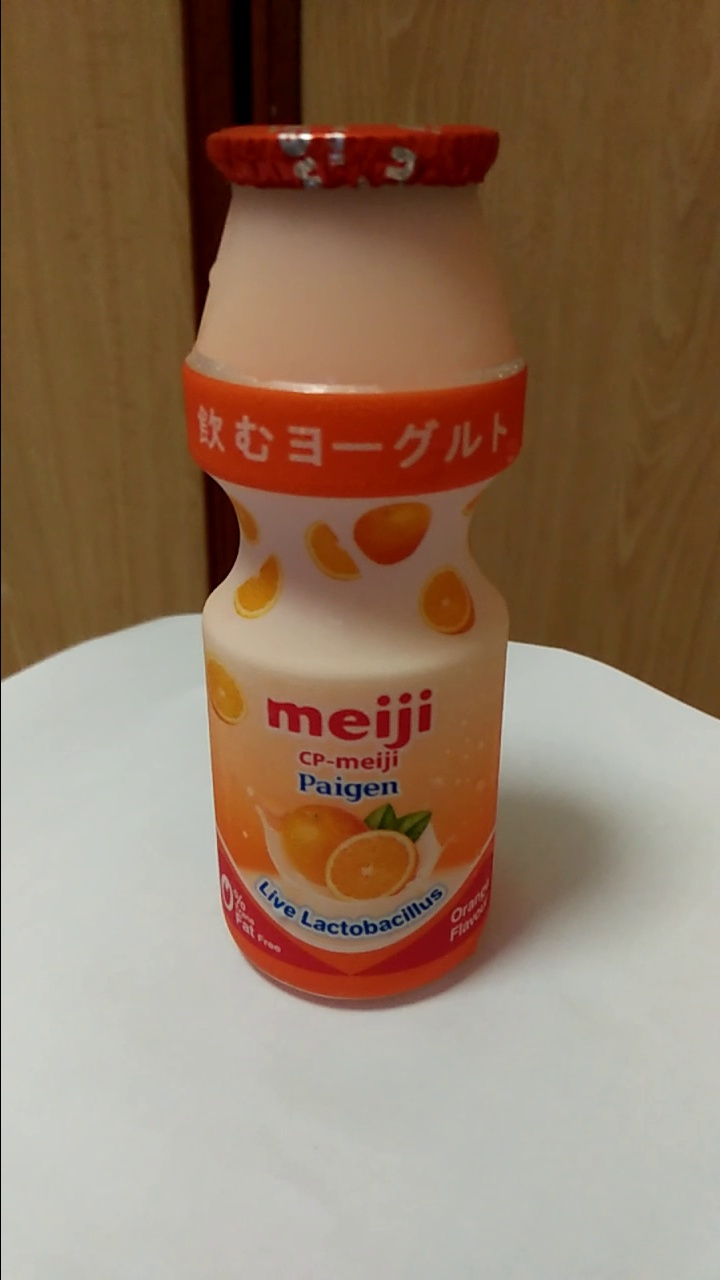milk: (196, 125, 501, 1006)
